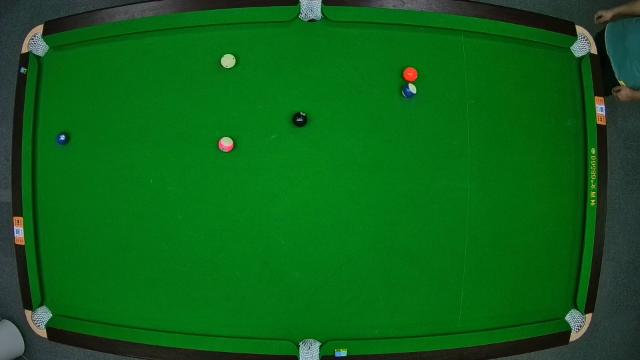bag1: (28, 34, 46, 56)
bag2: (299, 1, 323, 22)
bag3: (572, 35, 594, 57)
bag4: (33, 306, 51, 328)
bag5: (298, 340, 322, 360)
bag6: (565, 310, 585, 332)
ball0: (220, 54, 236, 70)
ball10: (400, 83, 418, 99)
ball12: (218, 138, 236, 154)
ball2: (56, 131, 70, 146)
ball5: (402, 67, 418, 83)
ball8: (292, 112, 308, 128)
